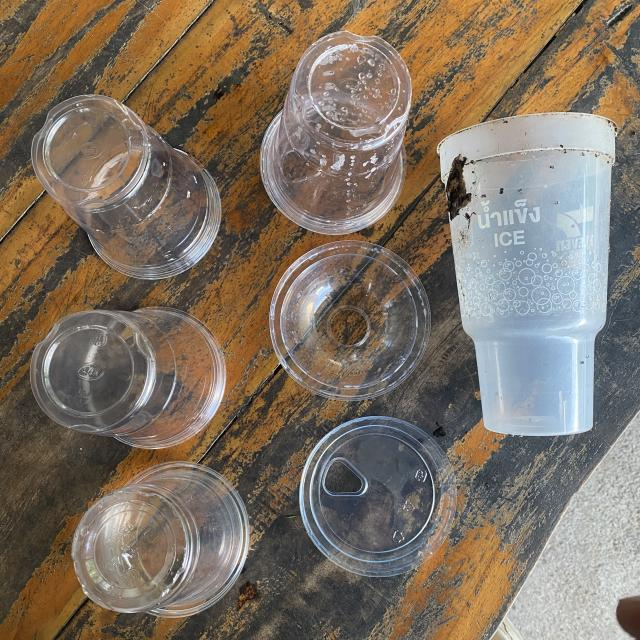plastik: (438, 112, 616, 435), (31, 95, 220, 279), (260, 31, 411, 234), (71, 461, 249, 618), (30, 308, 225, 449), (270, 241, 431, 400), (300, 416, 456, 578)
